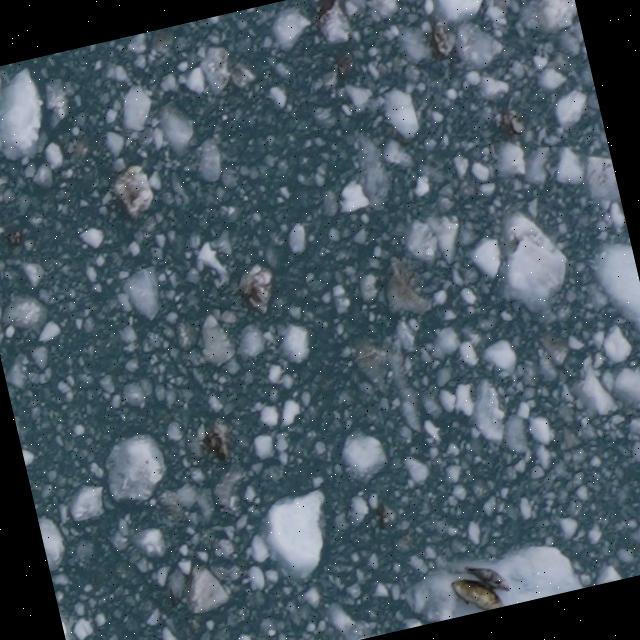seal: (445, 565, 508, 618), (461, 553, 517, 605)
